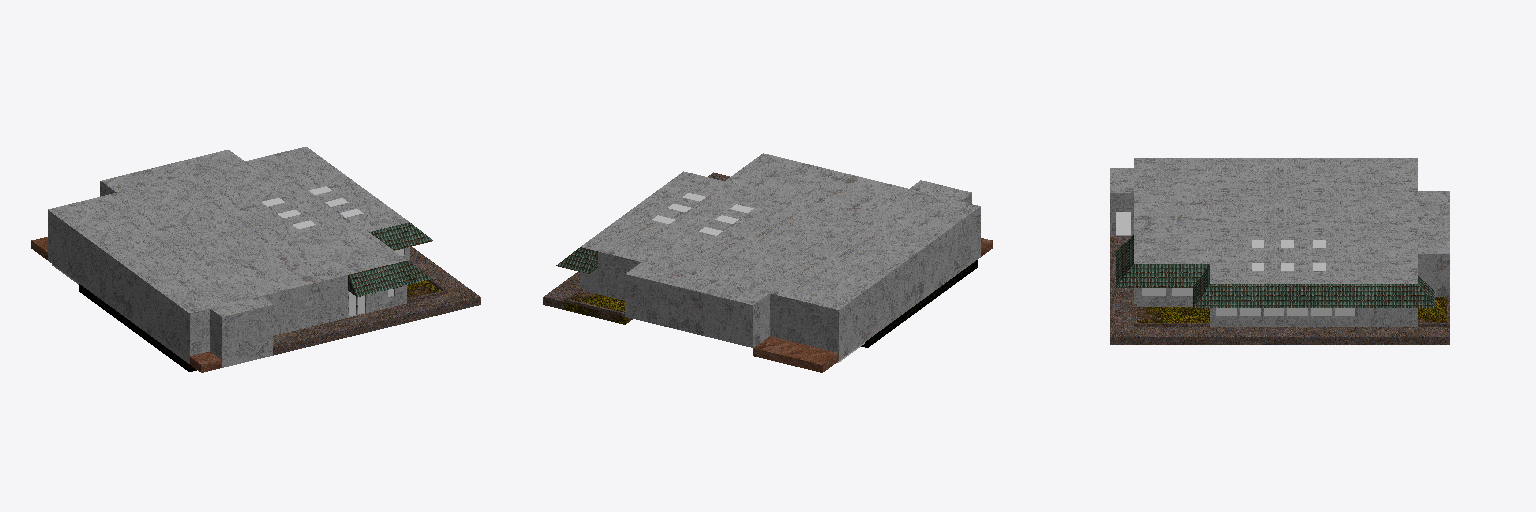
3 renders of one model, left to right at view 1: azimuth 30°, elevation 25°; view 2: azimuth 150°, elevation 25°; view 3: azimuth 270°, elevation 25°, orthographic.
Visible parts, largest first — view 1: entity1_brush47, entity1_brush77, entity1_brush60, entity1_brush154, entity1_brush6, entity1_brush15, entity1_brush155, entity1_brush34, entity1_brush59, entity1_brush45, entity1_brush52, entity1_brush156 (+6 smaller); view 2: entity1_brush47, entity1_brush77, entity1_brush34, entity1_brush60, entity1_brush154, entity1_brush76, entity1_brush155, entity1_brush79, entity1_brush48, entity1_brush156, entity1_brush158, entity1_brush11 (+3 smaller); view 3: entity1_brush47, entity1_brush77, entity1_brush32, entity1_brush154, entity1_brush74, entity1_brush34, entity1_brush155, entity1_brush6, entity1_brush67, entity1_brush54, entity1_brush49, entity1_brush22 (+5 smaller).
Boxes of the visible parts, x1=… form: entity1_brush47: x1=48, y1=175, x2=293, y2=295; entity1_brush77: x1=151, y1=232, x2=406, y2=323; entity1_brush60: x1=48, y1=221, x2=191, y2=363; entity1_brush154: x1=191, y1=147, x2=351, y2=207; entity1_brush6: x1=273, y1=288, x2=480, y2=355; entity1_brush15: x1=273, y1=286, x2=347, y2=335; entity1_brush155: x1=274, y1=207, x2=408, y2=249; entity1_brush34: x1=100, y1=150, x2=244, y2=196; entity1_brush59: x1=224, y1=316, x2=272, y2=366; entity1_brush45: x1=348, y1=261, x2=415, y2=296; entity1_brush52: x1=210, y1=296, x2=272, y2=327; entity1_brush156: x1=280, y1=190, x2=344, y2=224; entity1_brush47: x1=696, y1=200, x2=941, y2=320; entity1_brush77: x1=725, y1=153, x2=980, y2=244; entity1_brush34: x1=625, y1=262, x2=769, y2=347; entity1_brush60: x1=836, y1=217, x2=980, y2=360; entity1_brush154: x1=581, y1=214, x2=739, y2=274; entity1_brush76: x1=583, y1=262, x2=835, y2=351; entity1_brush155: x1=664, y1=171, x2=798, y2=213; entity1_brush79: x1=753, y1=336, x2=838, y2=372; entity1_brush48: x1=564, y1=291, x2=632, y2=324; entity1_brush156: x1=670, y1=197, x2=735, y2=230; entity1_brush158: x1=626, y1=186, x2=687, y2=219; entity1_brush11: x1=861, y1=260, x2=977, y2=347; entity1_brush47: x1=1210, y1=158, x2=1417, y2=227; entity1_brush77: x1=1134, y1=158, x2=1209, y2=263; entity1_brush32: x1=1134, y1=327, x2=1449, y2=344; entity1_brush154: x1=1326, y1=228, x2=1417, y2=283; entity1_brush74: x1=1210, y1=284, x2=1417, y2=307; entity1_brush34: x1=1418, y1=191, x2=1449, y2=296; entity1_brush155: x1=1210, y1=228, x2=1251, y2=283; entity1_brush6: x1=1110, y1=236, x2=1133, y2=344; entity1_brush67: x1=1210, y1=316, x2=1357, y2=326; entity1_brush54: x1=1134, y1=264, x2=1209, y2=287; entity1_brush49: x1=1137, y1=307, x2=1209, y2=322; entity1_brush22: x1=1358, y1=308, x2=1417, y2=326.
Size of the model in its own units: 872 by 180 by 920.
29 materials, 19 textured.